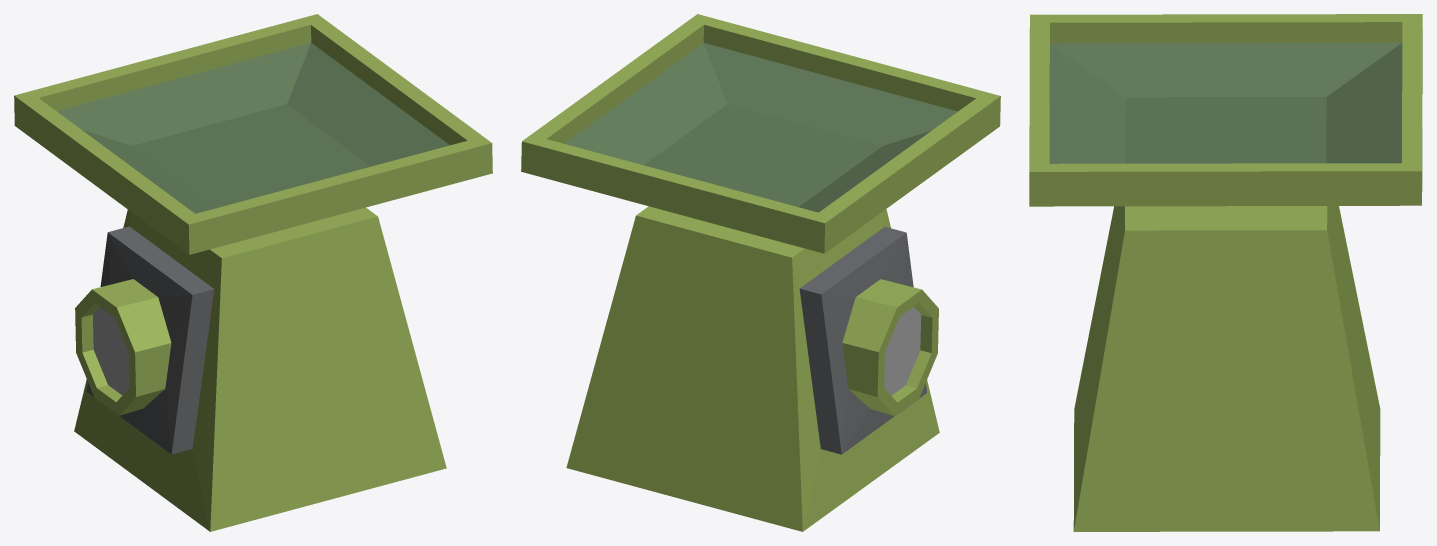
Rendered from FruitScale.fbx.
3 views of the same model, side by side, from view 1: azimuth 30°, elevation 25°; view 2: azimuth 150°, elevation 25°; view 3: azimuth 270°, elevation 25° (orthographic). The views are drawn at different scales.
Parts seen in each view (by area): view 1: FruitScale; view 2: FruitScale; view 3: FruitScale.
Part boxes in pixels (x1=…): FruitScale: x1=14, y1=14, x2=492, y2=531; FruitScale: x1=521, y1=14, x2=1000, y2=531; FruitScale: x1=1029, y1=14, x2=1422, y2=531.
Bounding box in the file's own units: 29.17 × 31.19 × 29.12.
1 material, 1 textured.
